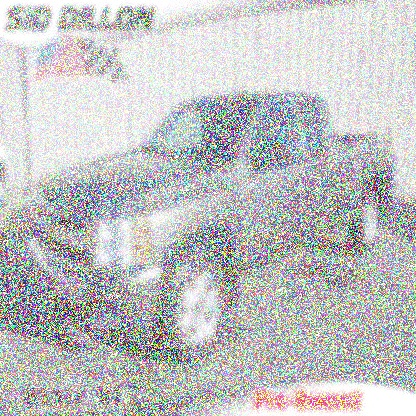Vehicle: (22, 89, 404, 369)
